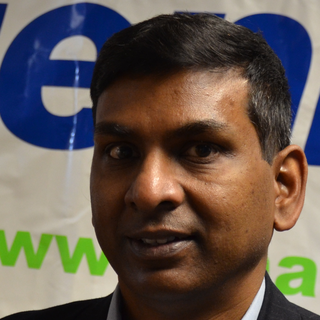eye: (177, 142, 224, 160), (104, 141, 143, 162)
